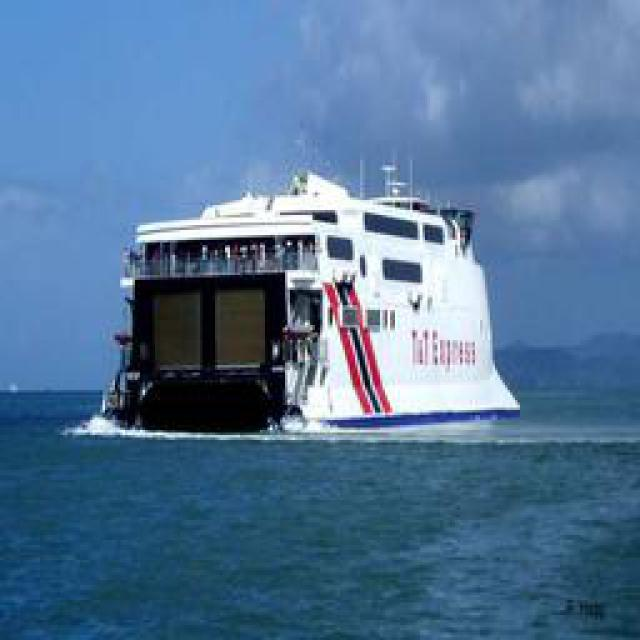Ship: (94, 156, 529, 439)
